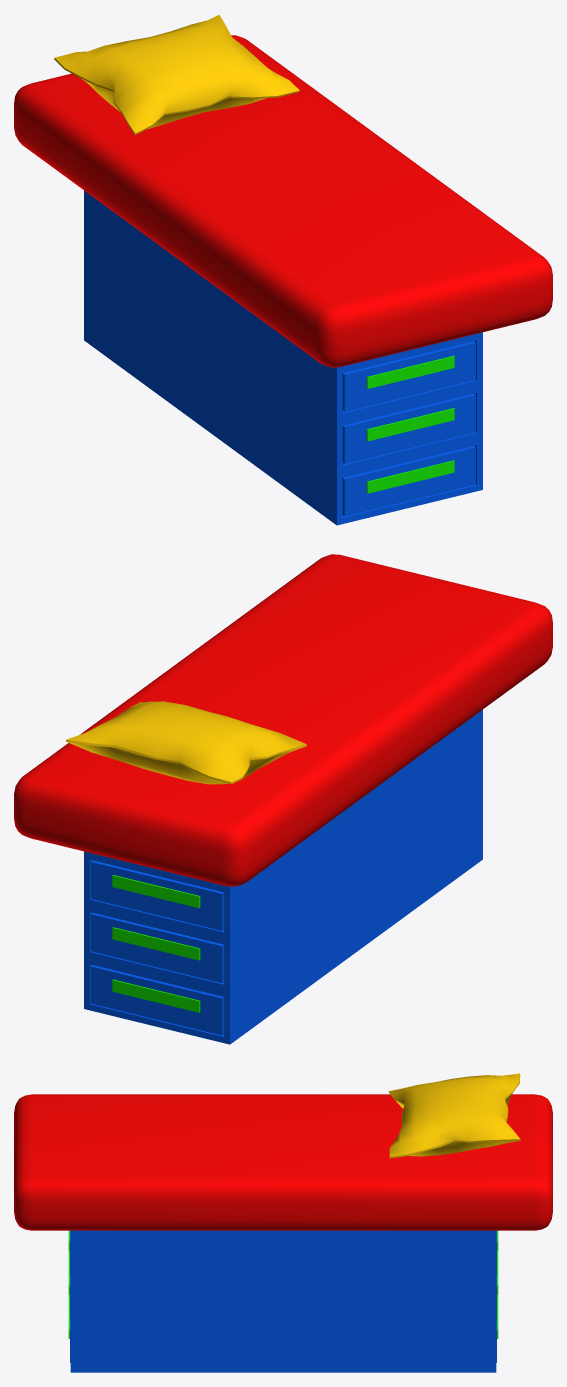
Rendered from Cameishon.FBX.
3 views of the same model, one above another, from view 1: azimuth 30°, elevation 25°; view 2: azimuth 150°, elevation 25°; view 3: azimuth 270°, elevation 25° (orthographic). The views are drawn at different scales.
Parts seen in each view (by area): view 1: hospital_fnt_cama2; view 2: hospital_fnt_cama2; view 3: hospital_fnt_cama2.
Part boxes in pixels (x1,y1,x2,y2): hospital_fnt_cama2: [14, 14, 552, 525]; hospital_fnt_cama2: [14, 554, 552, 1044]; hospital_fnt_cama2: [14, 1073, 552, 1372].
Size of the model in its own units: 80 by 96.11 by 190.
